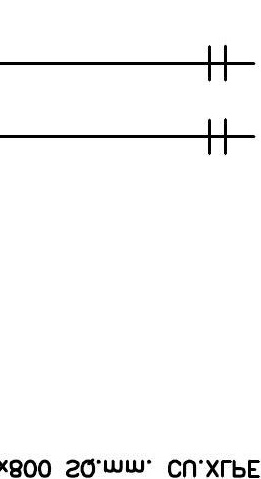115_buffer: (208, 118, 227, 155), (208, 45, 227, 82)
